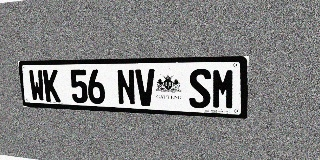5: (70, 69, 89, 103)
6: (86, 69, 106, 104)
K: (43, 70, 61, 102)
M: (212, 68, 236, 110)
N: (116, 69, 136, 106)
S: (189, 69, 211, 109)
V: (135, 69, 156, 106)
W: (28, 70, 46, 102)
